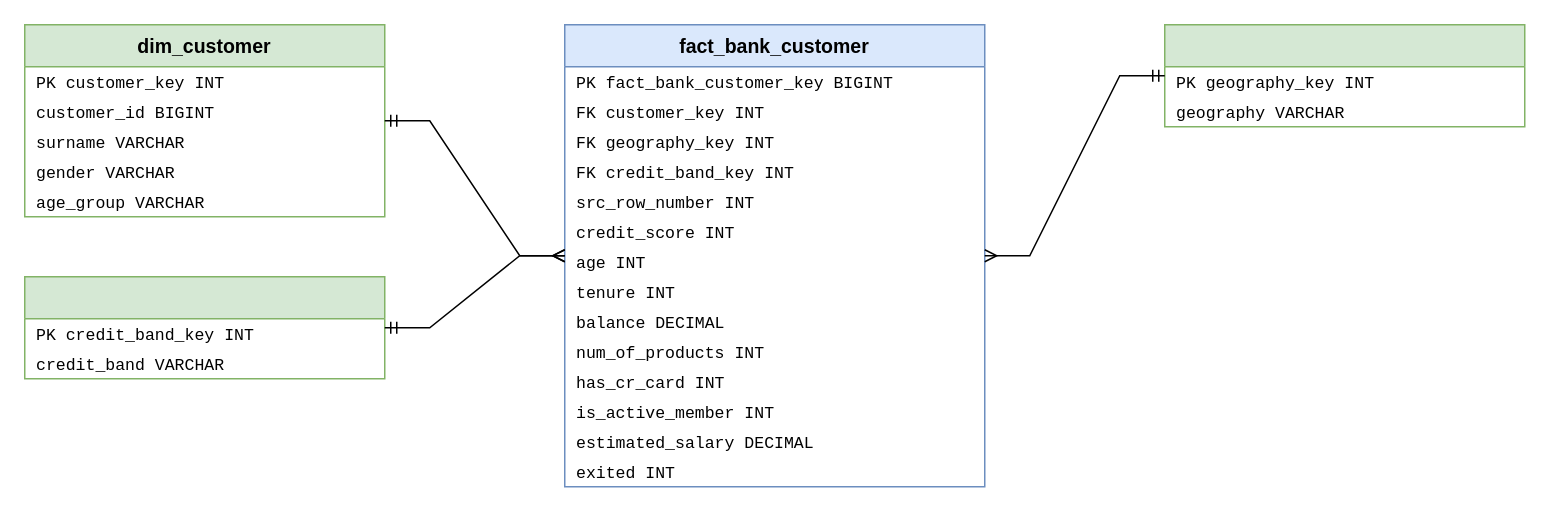
This 1550x512 diagram has some shape labels left out. The shapes that lost their labels are listed below. From the top down, each one's box as (x1, y1, x2, y2) in pixels, then its label:
(1163, 23, 1525, 127): dim_geography
(23, 275, 385, 379): dim_credit_band
